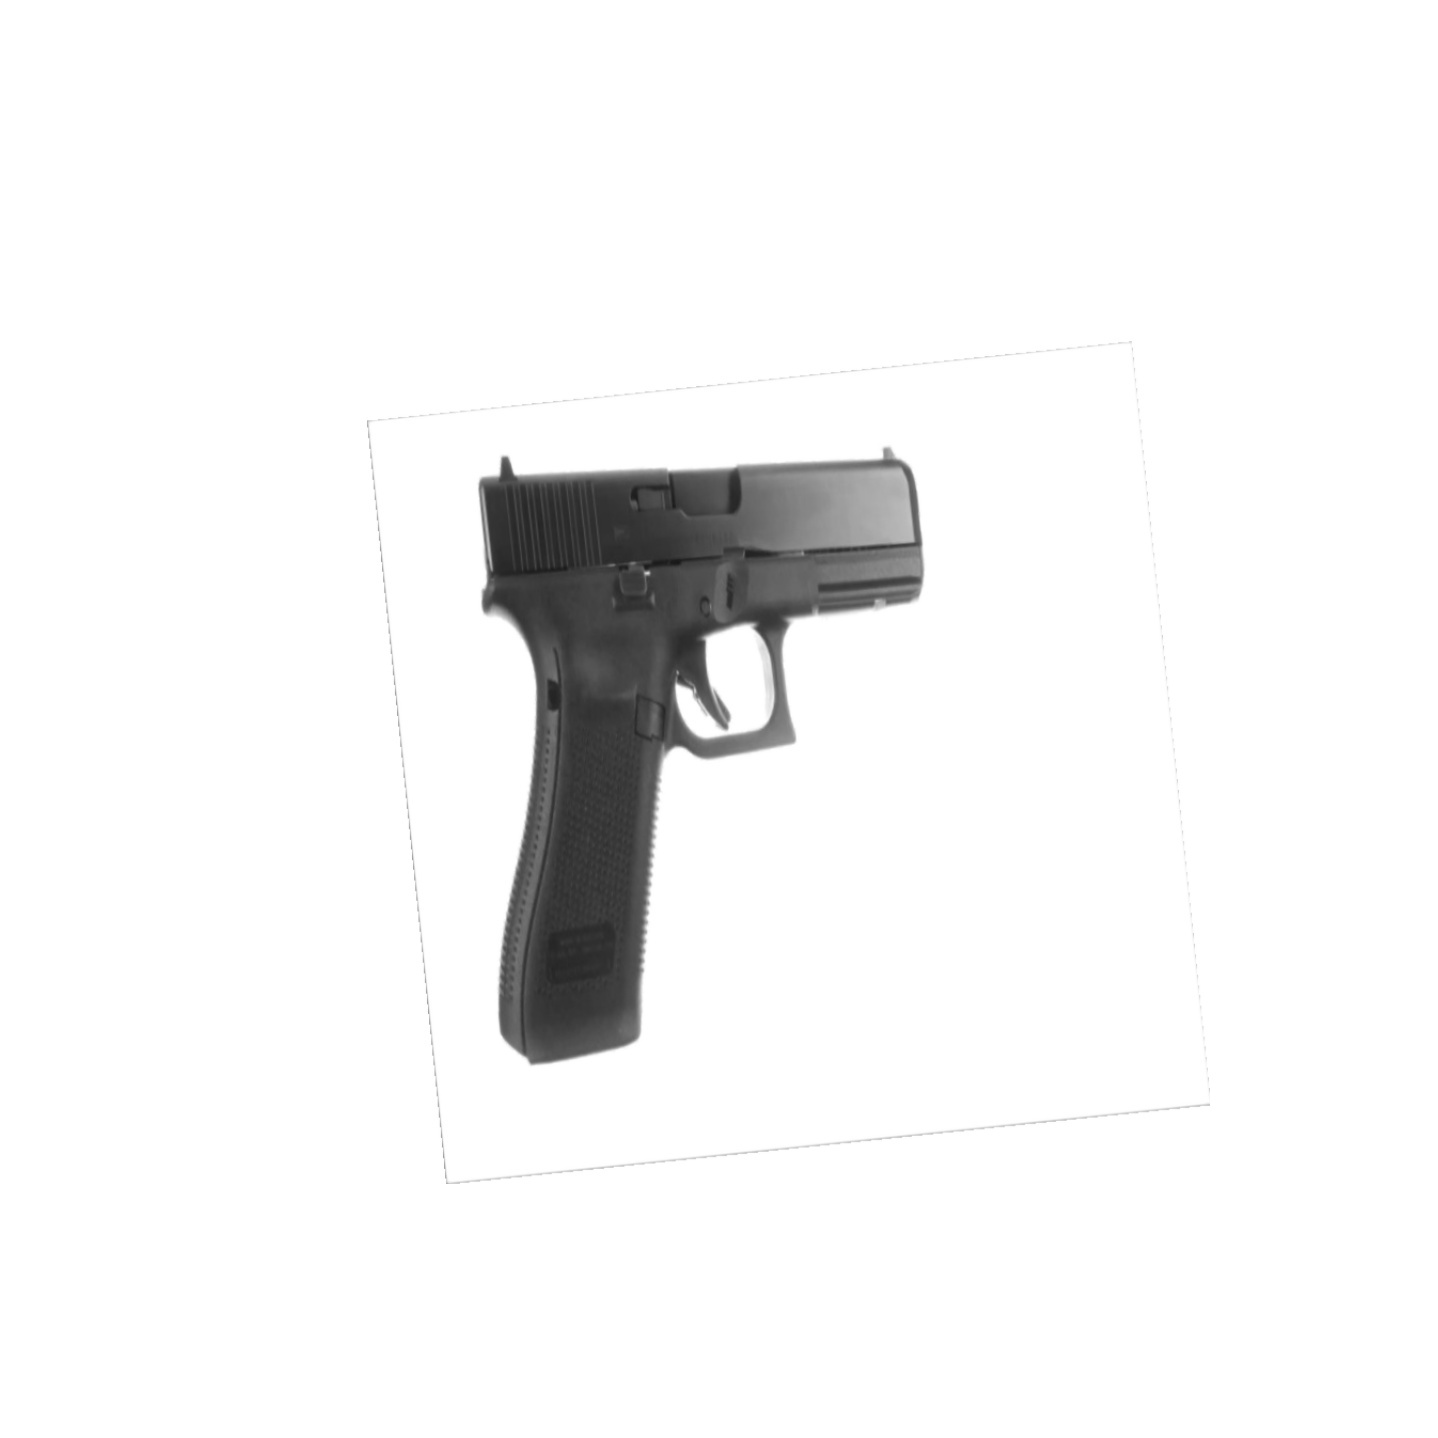gun: (475, 452, 928, 1064)
